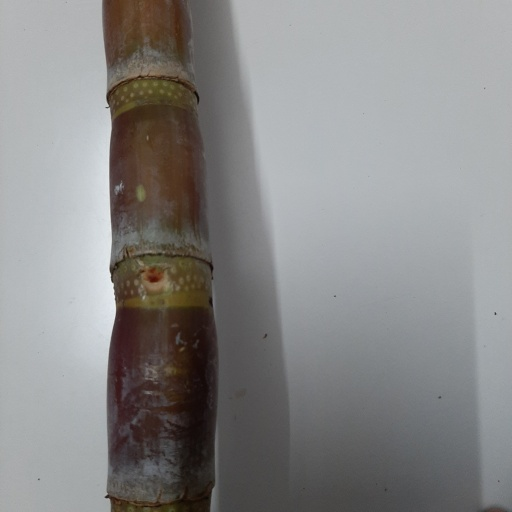Damage_Bud: (136, 261, 169, 289)
